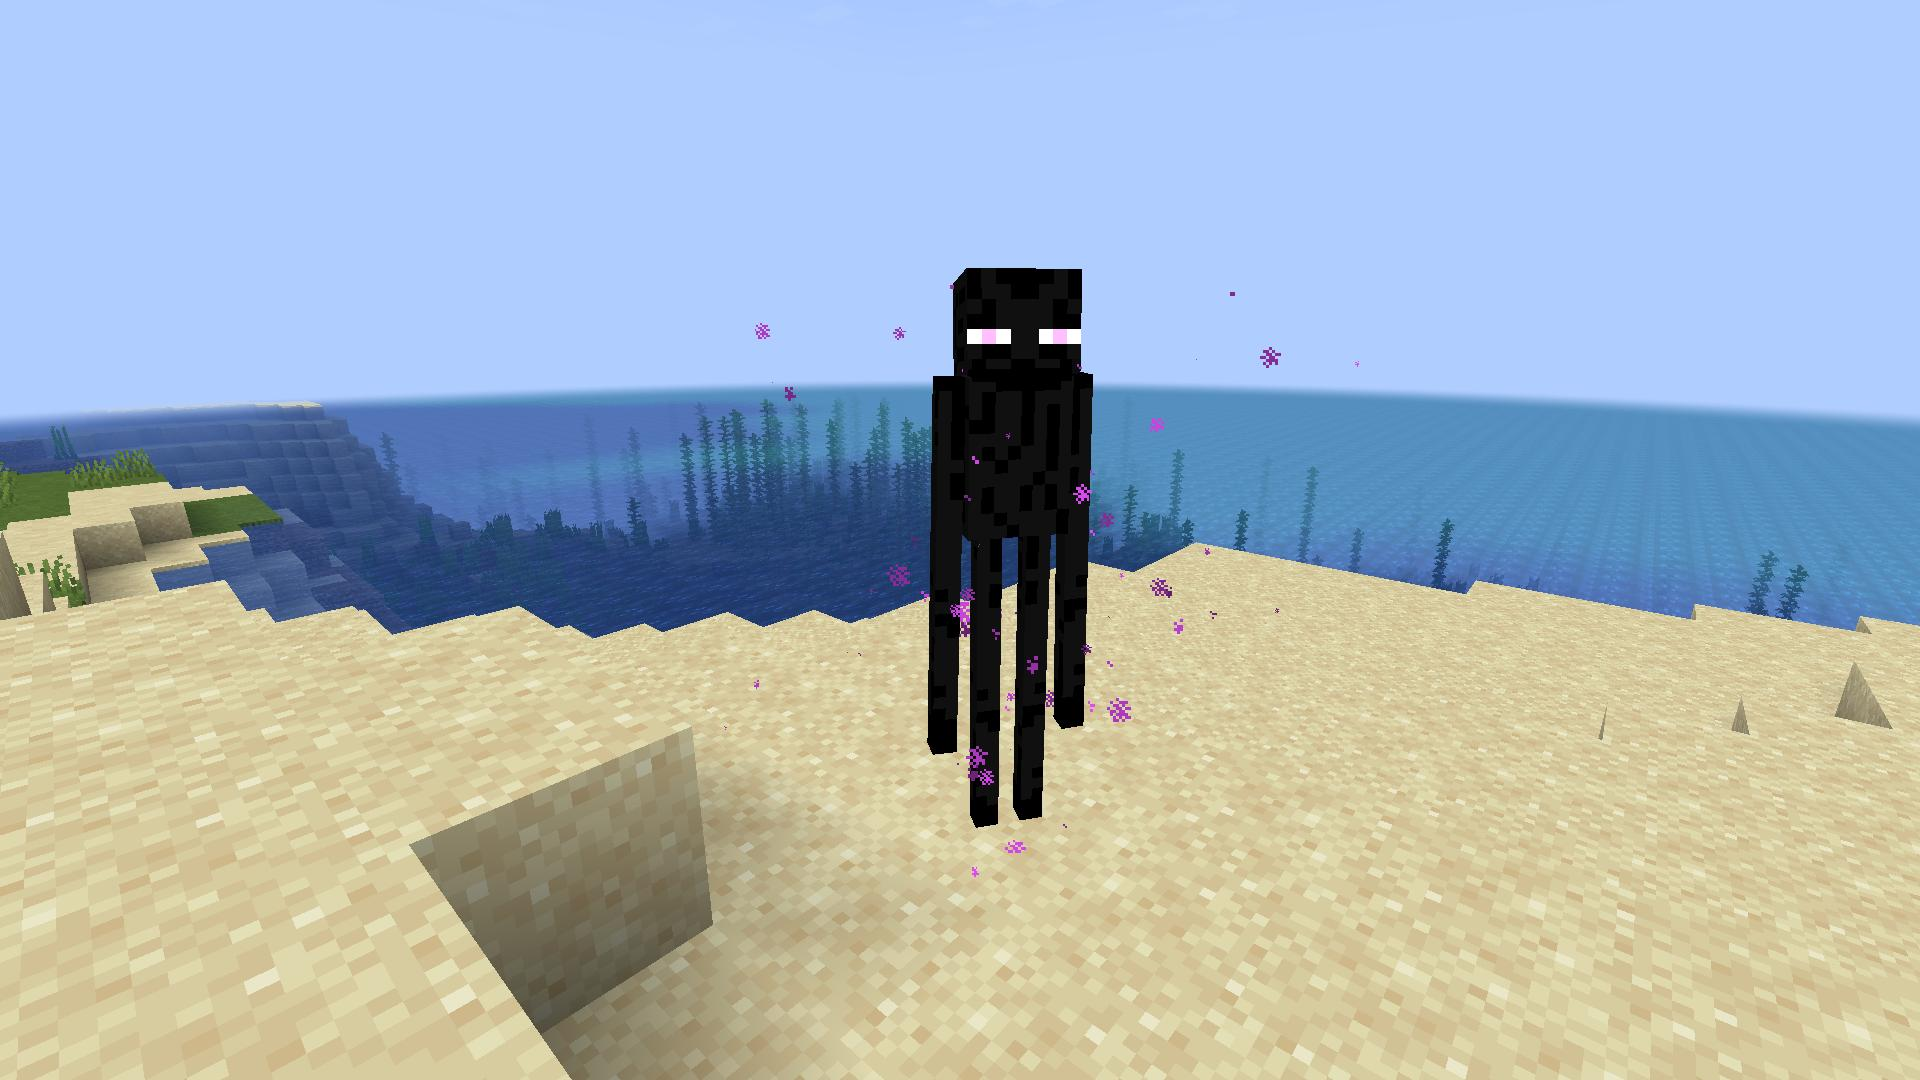enderman: (920, 258, 1096, 835)
